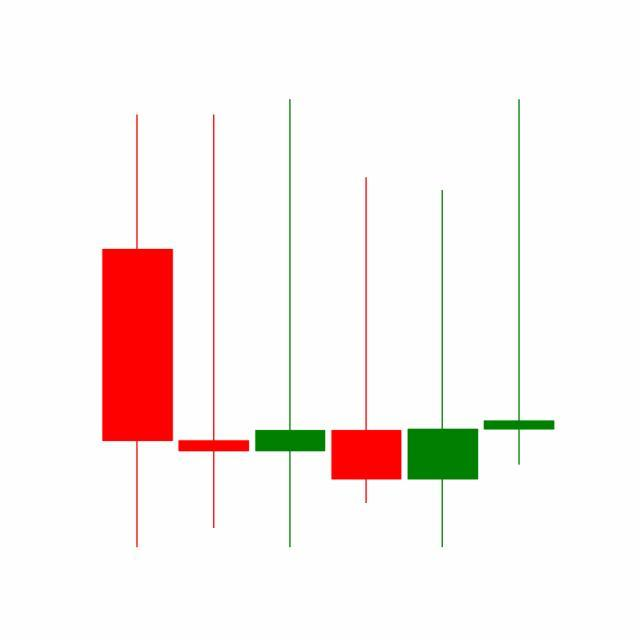Spinning Top: (404, 187, 482, 553)
